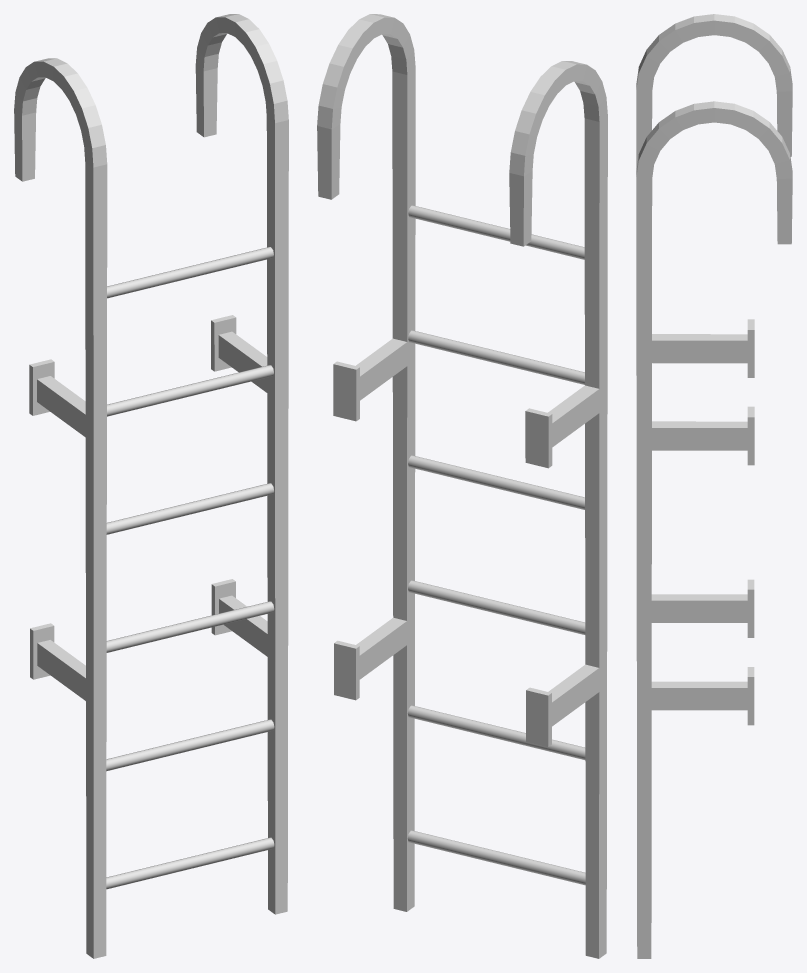
Rendered from Prop_BuildingStairs.fbx.
The picture shows the model from 3 angles, left to right: view 1: azimuth 30°, elevation 25°; view 2: azimuth 150°, elevation 25°; view 3: azimuth 270°, elevation 25°; orthographic projection. The views are drawn at different scales.
Parts seen in each view (by area): view 1: Prop_BuildingStairs; view 2: Prop_BuildingStairs; view 3: Prop_BuildingStairs.
Boxes of the visible parts, box(x1,y1,x2,y2) form: Prop_BuildingStairs: box(14, 14, 288, 958); Prop_BuildingStairs: box(317, 14, 607, 958); Prop_BuildingStairs: box(636, 14, 792, 958).
Bounding box in the file's own units: 76.63 × 311 × 51.78.
